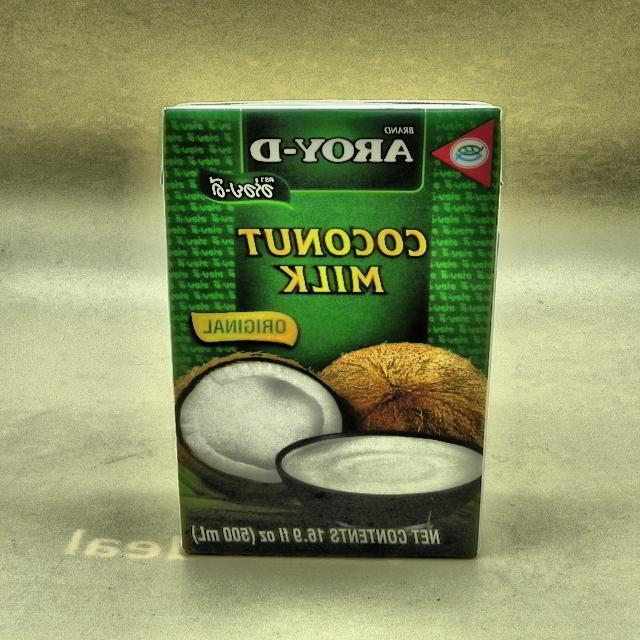cardboard: (162, 99, 502, 559)
